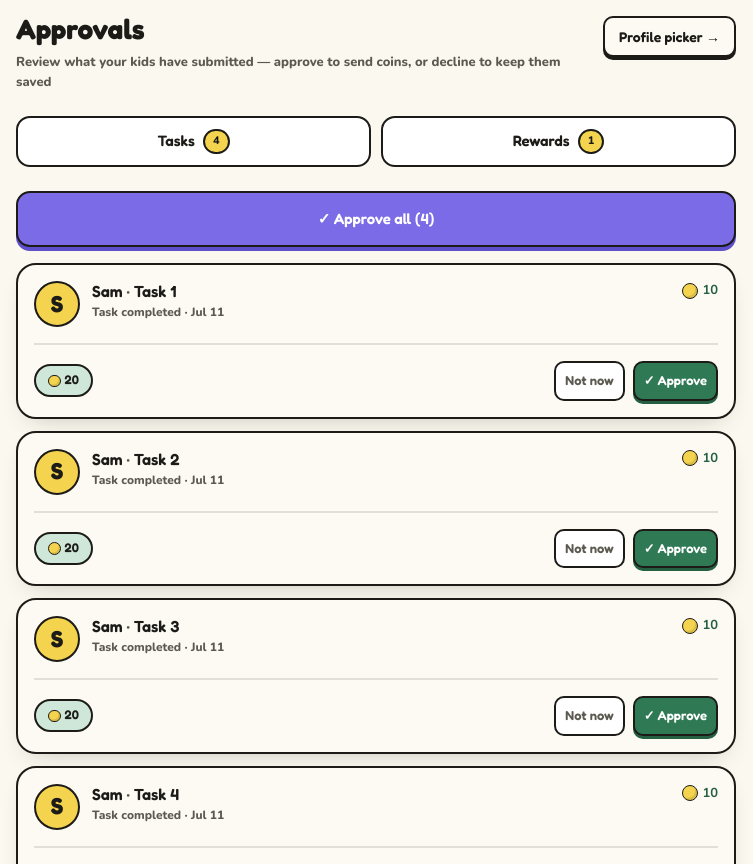
Scenario: ParentApprovalsPage › toasts the server's reason when Approve all is rejected
The image size is (753, 864).
Expected: the tab "Tasks 4" is shown, [16, 116, 371, 166]
Click the button "✓ Approve all (4)". click: (376, 219)
box: [16, 190, 736, 247]
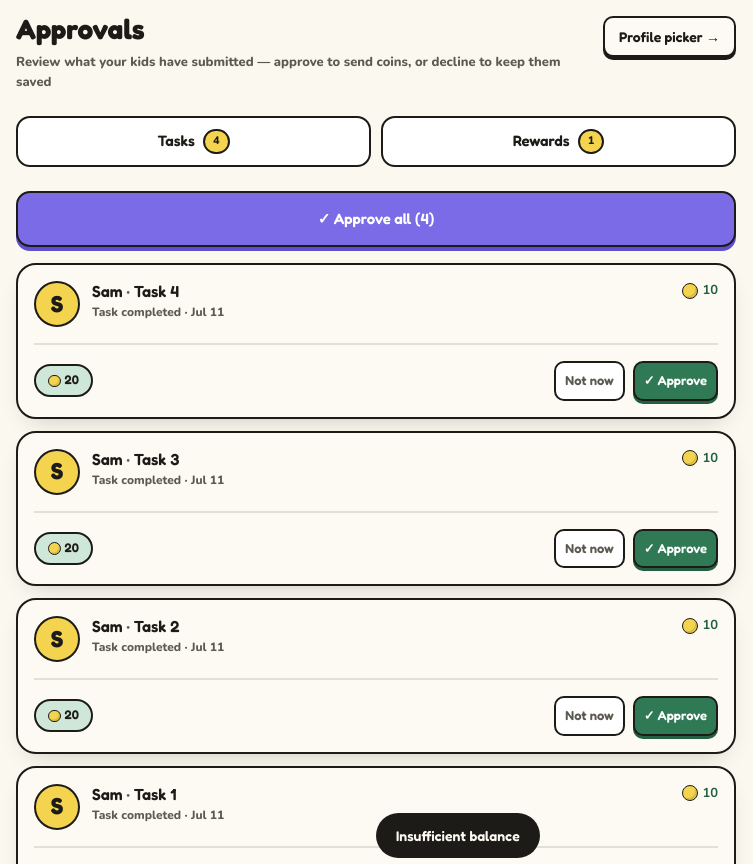
Result: the text "Insufficient balance" is shown at [376, 813, 540, 858]
Result: the text "Task 1" is shown at [134, 784, 176, 804]
